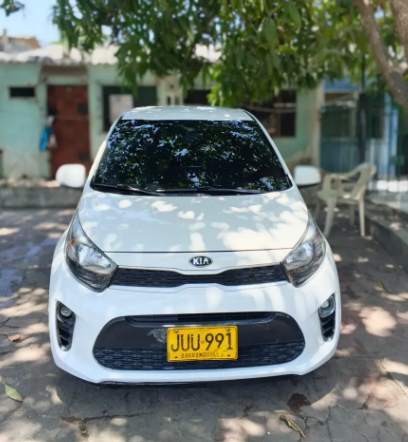placa: (166, 328, 239, 361)
